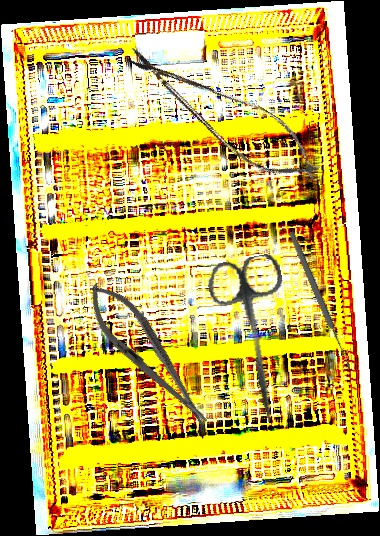Iris Scissors: (204, 251, 309, 429)
Micro Scissor: (110, 30, 336, 200)
Needle Holder: (75, 272, 221, 438)
Surgical Spoon: (287, 230, 353, 370)
